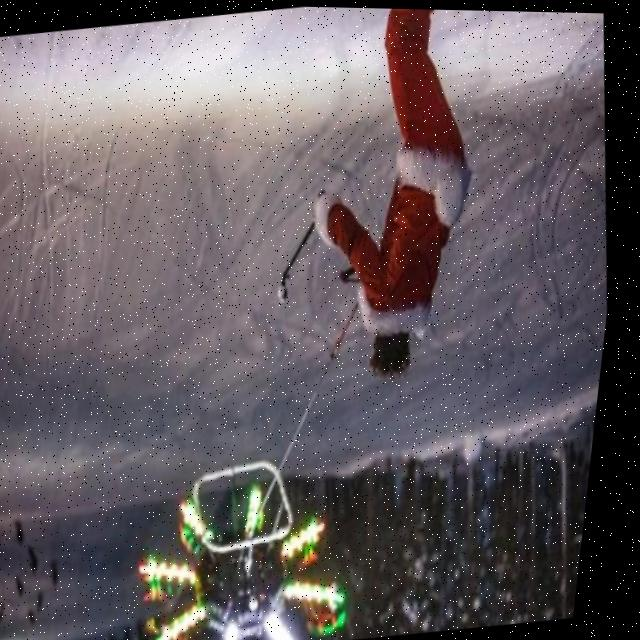drones: (122, 403, 413, 640)
